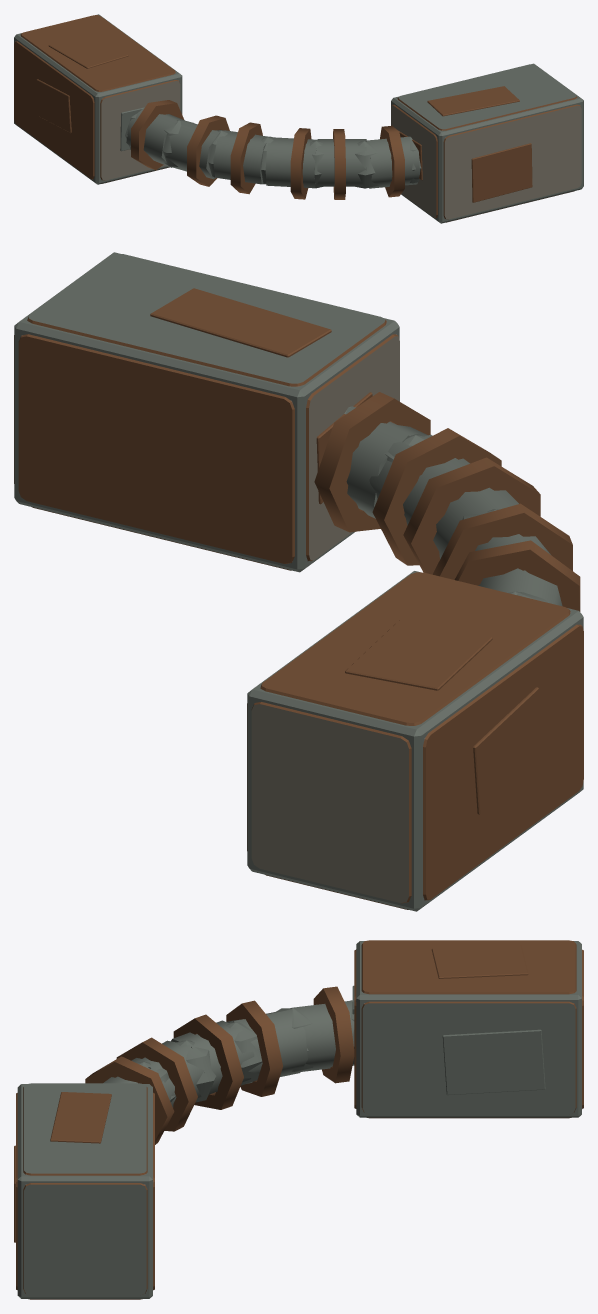
The model's file is R4C_ROD_ARC_SHORT.fbx.
The picture shows the model from 3 angles, top to bottom: view 1: azimuth 30°, elevation 25°; view 2: azimuth 150°, elevation 25°; view 3: azimuth 270°, elevation 25°; orthographic projection. The views are drawn at different scales.
Visible parts, largest first — view 1: R4C_ROD_ARC_SHORT; view 2: R4C_ROD_ARC_SHORT; view 3: R4C_ROD_ARC_SHORT.
Boxes of the visible parts, box(x1,y1,x2,y2) form: R4C_ROD_ARC_SHORT: box(14, 14, 583, 223); R4C_ROD_ARC_SHORT: box(14, 252, 583, 911); R4C_ROD_ARC_SHORT: box(14, 940, 583, 1299).
Size of the model in its own units: 0.926 by 0.232 by 0.926.
